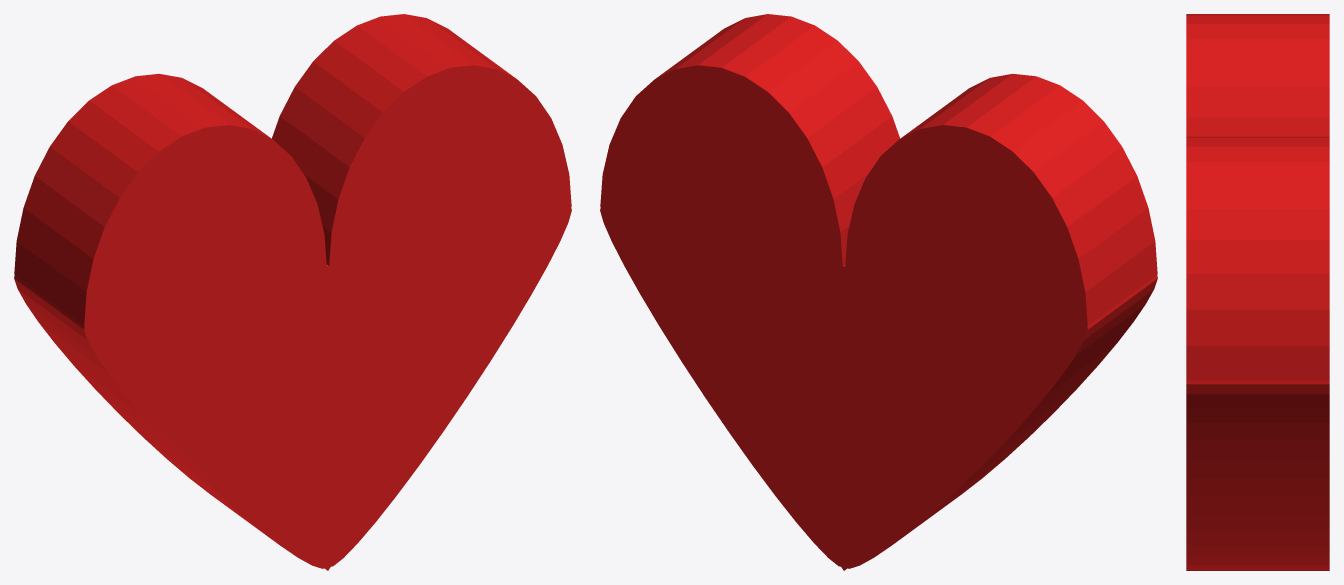
The model's file is heart.obj.
3 renders of one model, left to right at view 1: azimuth 30°, elevation 25°; view 2: azimuth 150°, elevation 25°; view 3: azimuth 270°, elevation 25°, orthographic. The views are drawn at different scales.
Visible parts, largest first — view 1: 円柱.004; view 2: 円柱.004; view 3: 円柱.004.
Part boxes in pixels (x1,y1,x2,y2): 円柱.004: [14, 14, 571, 570]; 円柱.004: [600, 14, 1157, 570]; 円柱.004: [1186, 14, 1329, 570].
Bounding box in the file's own units: 4.02 × 3.73 × 1.
Materials: 1 (1 with a texture image).
